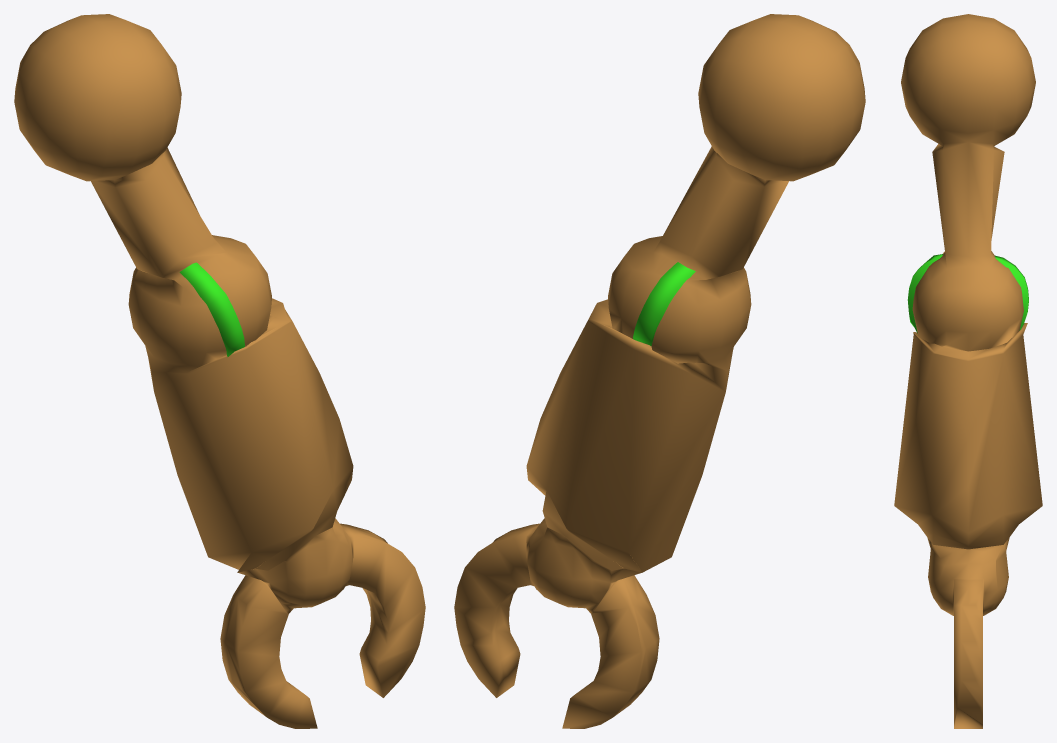
File: Arm_R.fbx
3 views of the same model, side by side, from view 1: azimuth 30°, elevation 25°; view 2: azimuth 150°, elevation 25°; view 3: azimuth 270°, elevation 25° (orthographic). The views are drawn at different scales.
Parts seen in each view (by area): view 1: Nails.002; view 2: Nails.002; view 3: Nails.002.
Part boxes in pixels (x1,y1,x2,y2): Nails.002: [14, 14, 425, 728]; Nails.002: [454, 14, 865, 728]; Nails.002: [894, 14, 1042, 728].
Bounding box in the file's own units: 42.51 × 78.08 × 17.24.
